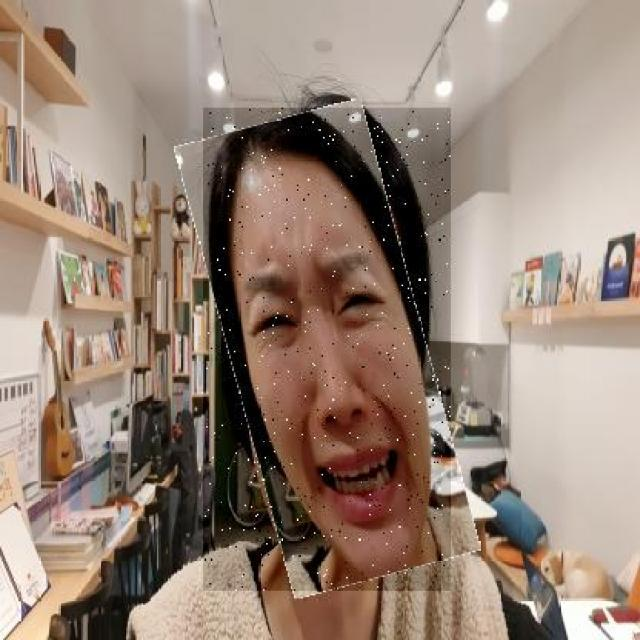surprised: (192, 151, 434, 564)
